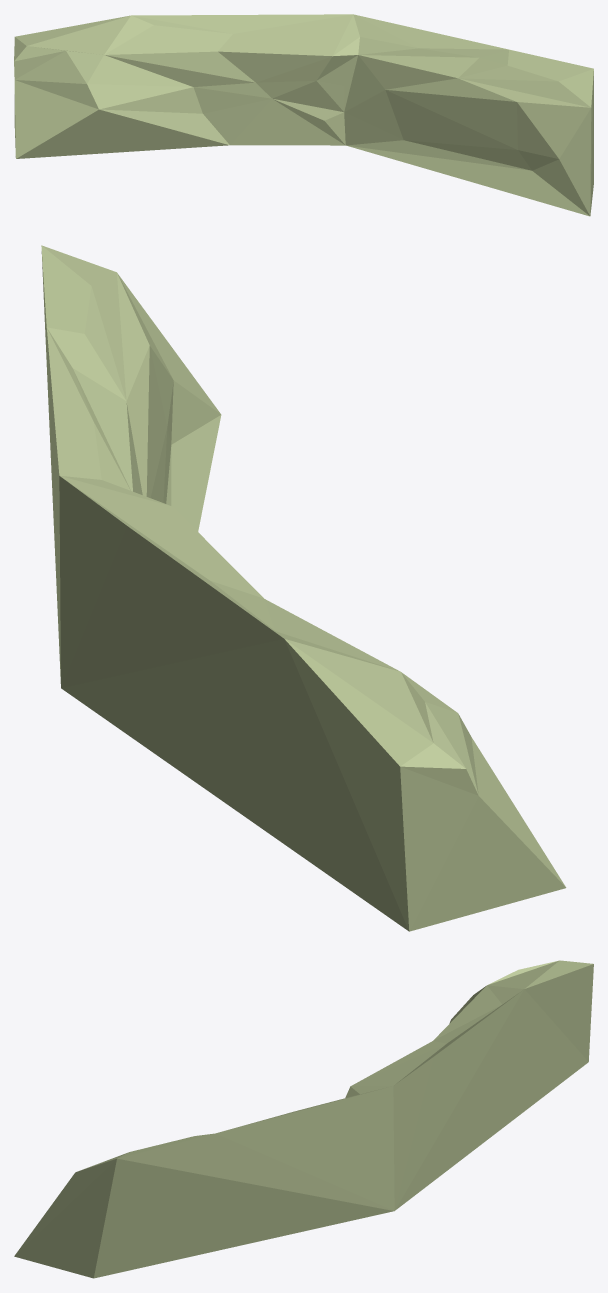
Rendered from hill_19.gltf.
3 renders of one model, top to bottom at view 1: azimuth 30°, elevation 25°; view 2: azimuth 150°, elevation 25°; view 3: azimuth 270°, elevation 25°, orthographic. The views are drawn at different scales.
Parts seen in each view (by area): view 1: hill; view 2: hill; view 3: hill.
Part boxes in pixels (x1,y1,x2,y2): hill: (14,14,593,216); hill: (41,245,566,931); hill: (14,960,593,1278).
Bounding box in the file's own units: 4.25 × 1.02 × 4.26.
